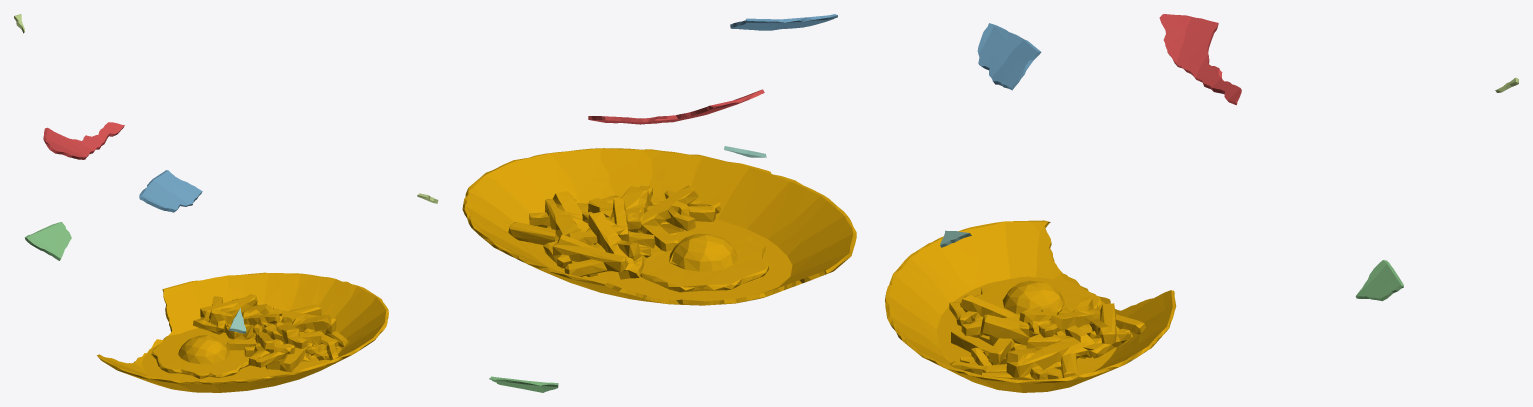
The model's file is fractured_38_6pcs_transformed.glb.
3 views of the same model, side by side, from view 1: azimuth 30°, elevation 25°; view 2: azimuth 150°, elevation 25°; view 3: azimuth 270°, elevation 25° (orthographic). The views are drawn at different scales.
Visible parts, largest first — view 1: piece_0.obj, piece_2.obj, piece_1.obj, piece_3.obj; view 2: piece_0.obj, piece_1.obj, piece_2.obj, piece_3.obj; view 3: piece_0.obj, piece_1.obj, piece_2.obj, piece_3.obj.
Boxes of the visible parts, <box> form: piece_0.obj: <box>97,272,388,392</box>; piece_2.obj: <box>139,170,202,212</box>; piece_1.obj: <box>43,122,124,159</box>; piece_3.obj: <box>24,222,71,260</box>; piece_0.obj: <box>462,148,856,305</box>; piece_1.obj: <box>588,89,764,124</box>; piece_2.obj: <box>730,14,837,30</box>; piece_3.obj: <box>489,376,558,392</box>; piece_0.obj: <box>885,220,1176,392</box>; piece_1.obj: <box>1159,14,1241,105</box>; piece_2.obj: <box>977,23,1041,90</box>; piece_3.obj: <box>1355,260,1403,301</box>.
Bounding box in the file's own units: 1 × 0.7028 × 1.66.
